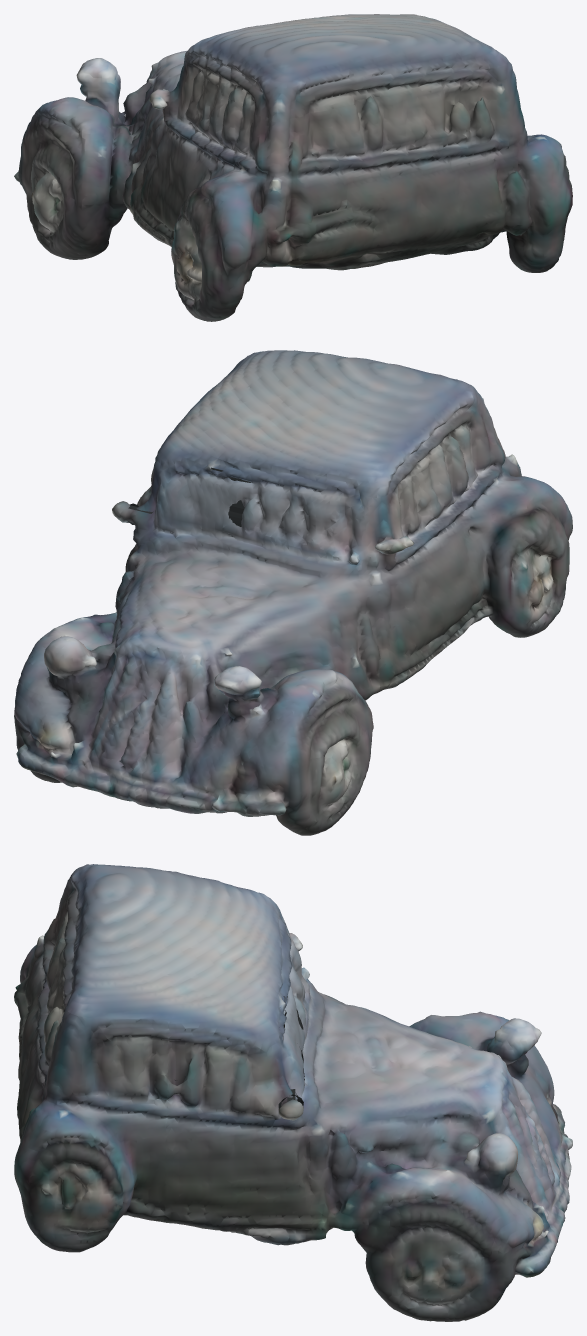
The model's file is car_authored.glb.
3 renders of one model, top to bottom at view 1: azimuth 30°, elevation 25°; view 2: azimuth 150°, elevation 25°; view 3: azimuth 270°, elevation 25°, orthographic. The views are drawn at different scales.
Visible parts, largest first — view 1: Body_fixed_generated_surface; view 2: Body_fixed_generated_surface, Door_generated_outer_surface; view 3: Body_fixed_generated_surface, Door_generated_outer_surface.
Part boxes in pixels (bbox=[...]): Body_fixed_generated_surface: bbox=[14, 14, 572, 321]; Body_fixed_generated_surface: bbox=[14, 350, 572, 835]; Door_generated_outer_surface: bbox=[112, 416, 233, 571]; Body_fixed_generated_surface: bbox=[14, 864, 572, 1321]; Door_generated_outer_surface: bbox=[164, 986, 311, 1227].
Bounding box in the file's own units: 0.6612 × 0.5696 × 0.832.
